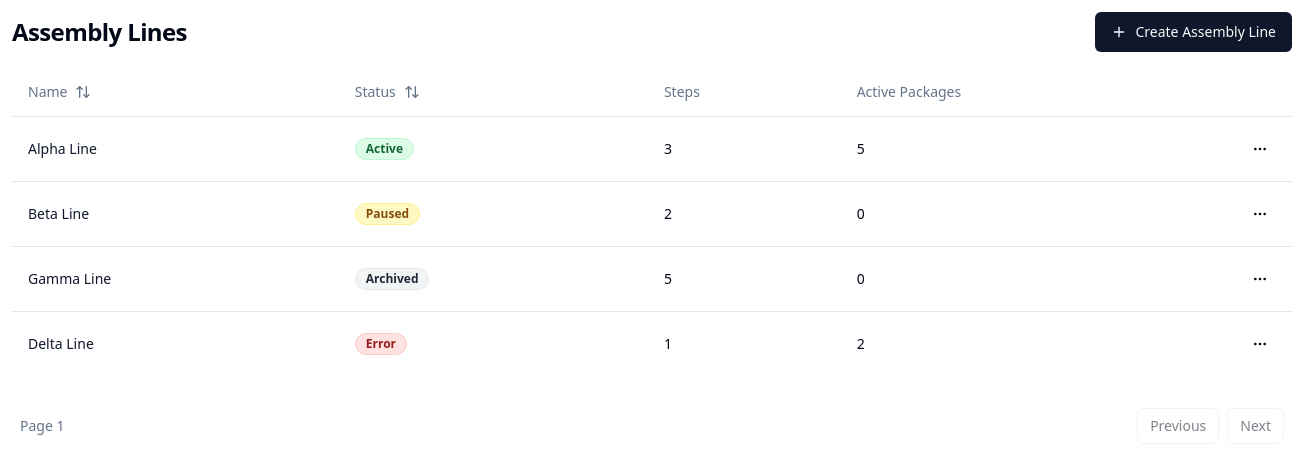
Test case: AssemblyLineListPage › Actions dropdown › shows Resume instead of Pause for paused lines
Expected: the link "Beta Line" is shown, 28,204 -> 89,222
Click the button named "Open actions for" in the row of "Beta Line".
click(1260, 214)  # box 1244,198 -> 1276,230
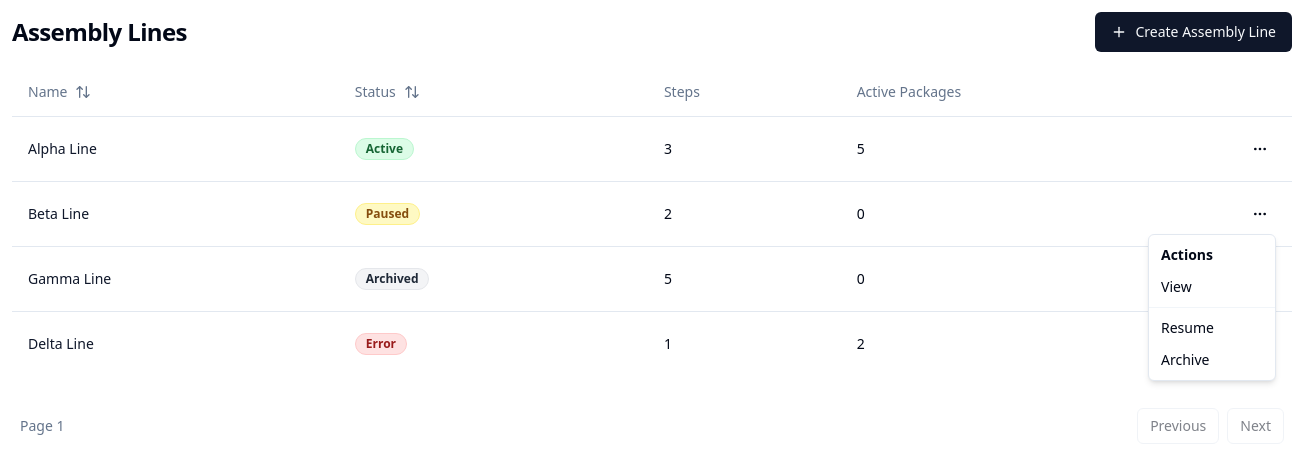
Now the menu item "Resume" is shown, box 1161,318 -> 1214,337
